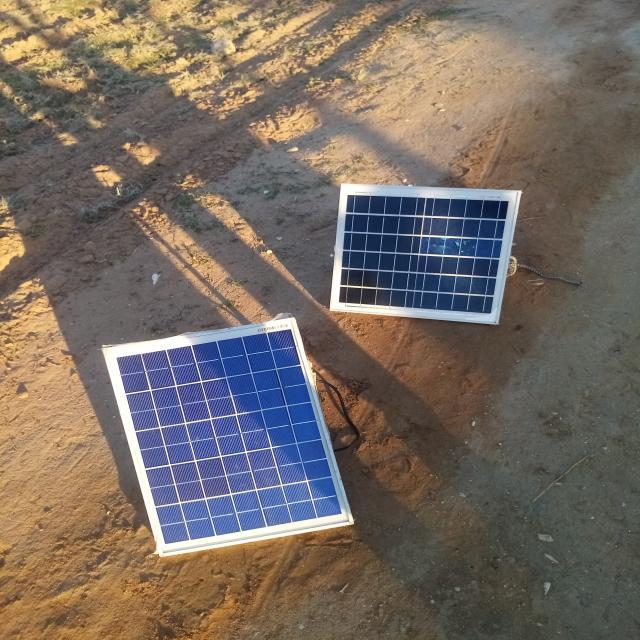no faulty: (104, 319, 352, 556), (330, 183, 522, 324)
